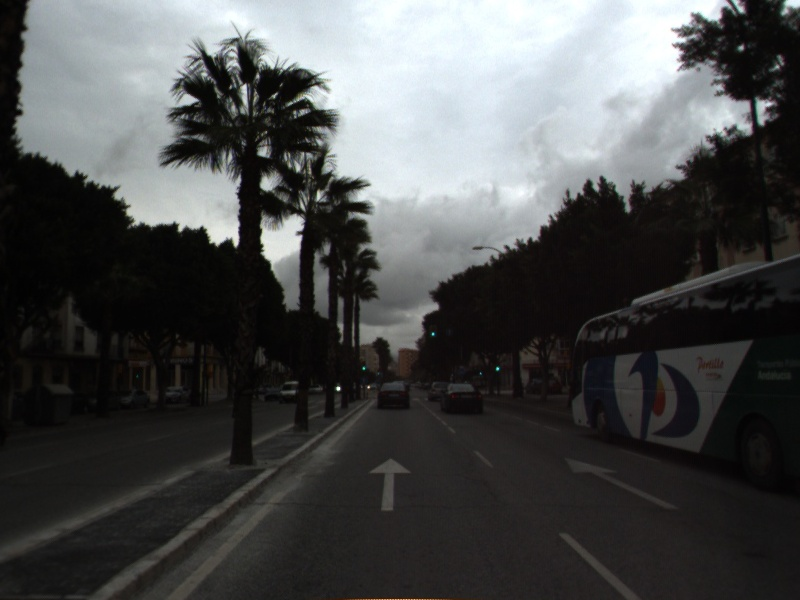STRAIGHT: (562, 456, 681, 512), (366, 456, 414, 513)
